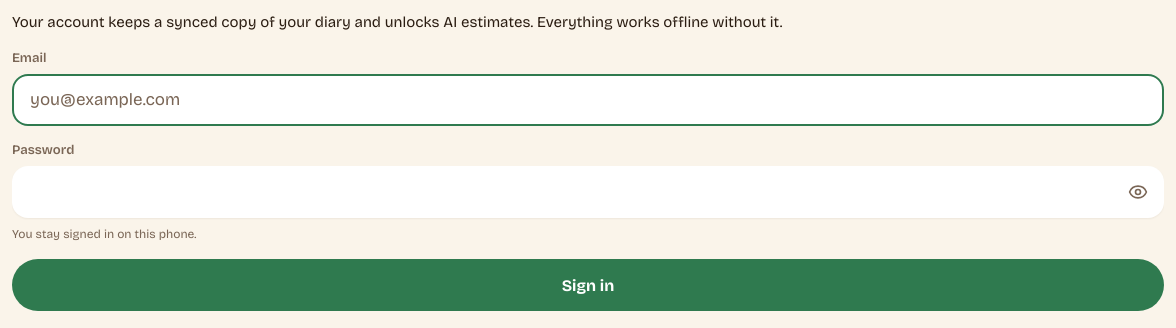
Test case: SignInPanel › falls back to a general message for an error without one
Type "fabian@example.com" into the field labelled "Email".
click(588, 100); type("fabian@example.com")  # box [28,74,1148,126]
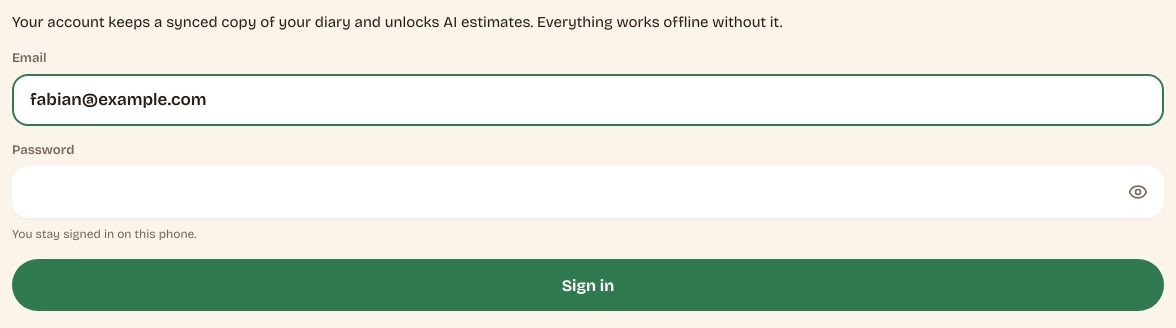
Type "correct horse battery staple" into the password field labelled "Password".
click(575, 192); type("correct horse battery staple")  # box [28,166,1122,218]
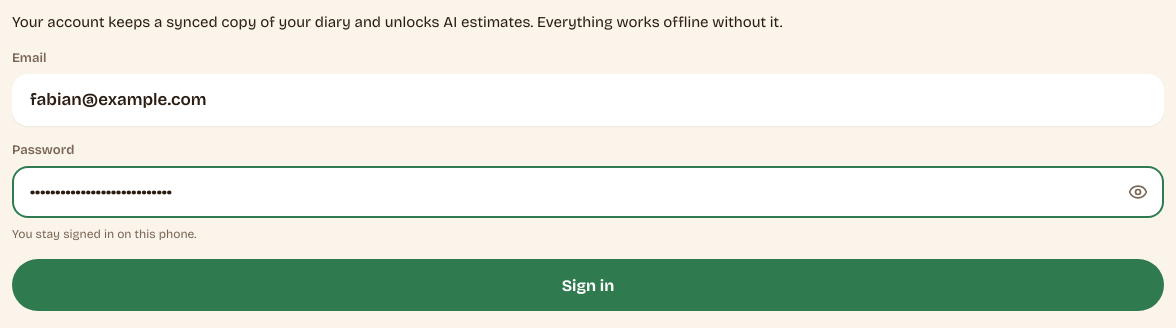
Click the button "Sign in".
click(588, 285)  # box [12,259,1164,311]
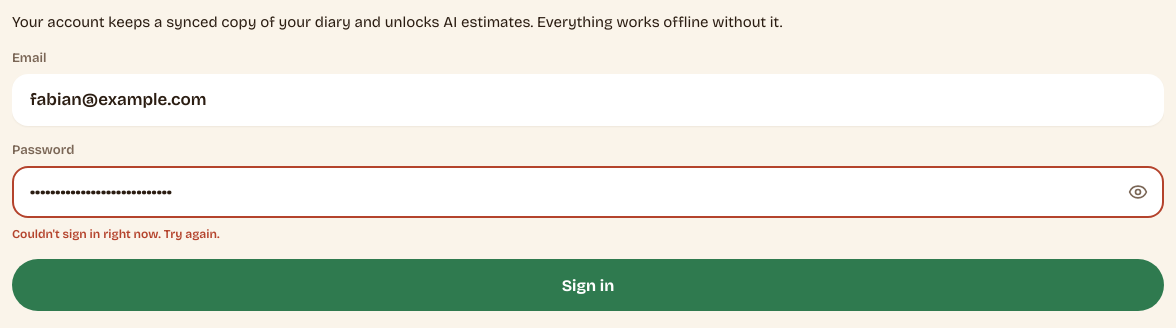
expect the message reads "Couldn't sign in right now. Try again.": met, box [12,227,220,241]
